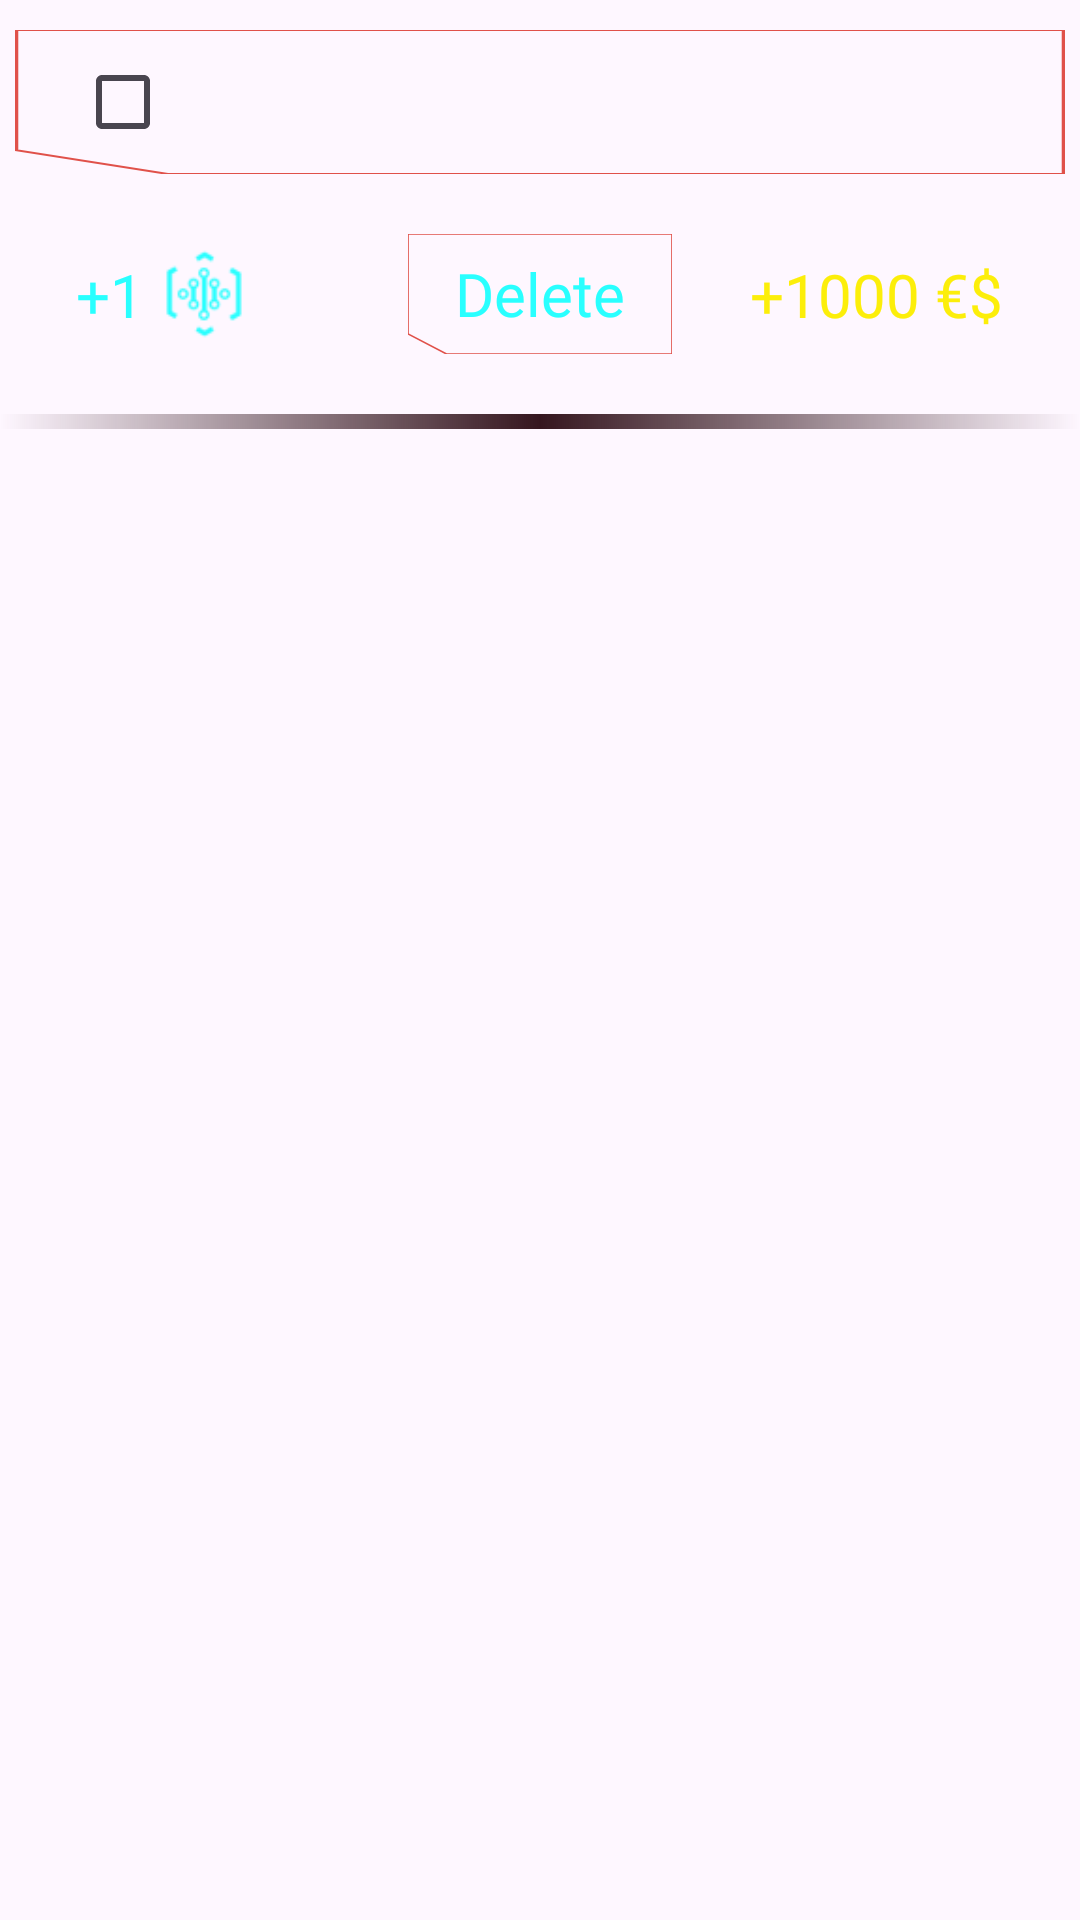

Icon bounding boxes for this 1080x1920 phone screenshot, format (x1, y1, x2, y2):
cyberpunk inteligencia: (166, 251, 242, 337)
